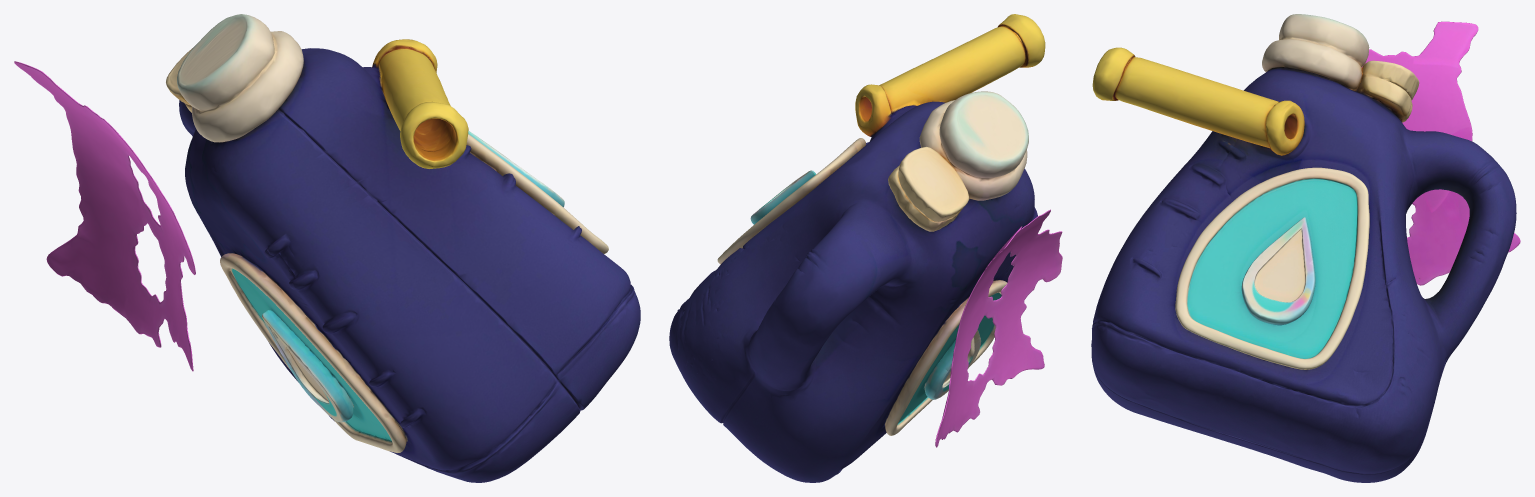
The model's file is oil.glb.
The picture shows the model from 3 angles, left to right: view 1: azimuth 30°, elevation 25°; view 2: azimuth 150°, elevation 25°; view 3: azimuth 270°, elevation 25°; orthographic projection. The views are drawn at different scales.
Parts seen in each view (by area): view 1: tripo_node_11a1e9cb-b913-4ed1-a67c-07909d075036; view 2: tripo_node_11a1e9cb-b913-4ed1-a67c-07909d075036; view 3: tripo_node_11a1e9cb-b913-4ed1-a67c-07909d075036.
Part boxes in pixels (x1,y1,x2,y2): tripo_node_11a1e9cb-b913-4ed1-a67c-07909d075036: (14,14,640,482); tripo_node_11a1e9cb-b913-4ed1-a67c-07909d075036: (669,14,1062,482); tripo_node_11a1e9cb-b913-4ed1-a67c-07909d075036: (1091,14,1520,482).
Bounding box in the file's own units: 0.9801 × 0.9667 × 0.9471.
Materials: 1 (1 with a texture image).
